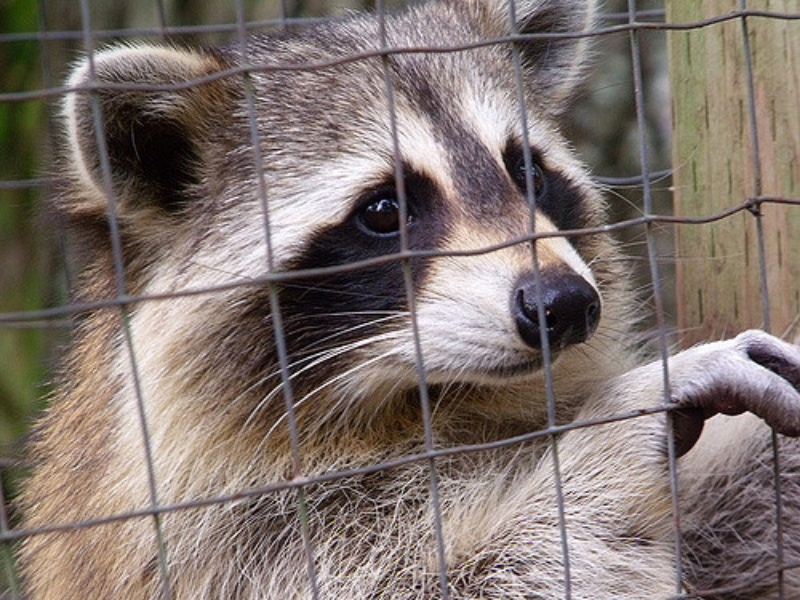raccoon: (16, 7, 752, 584)
